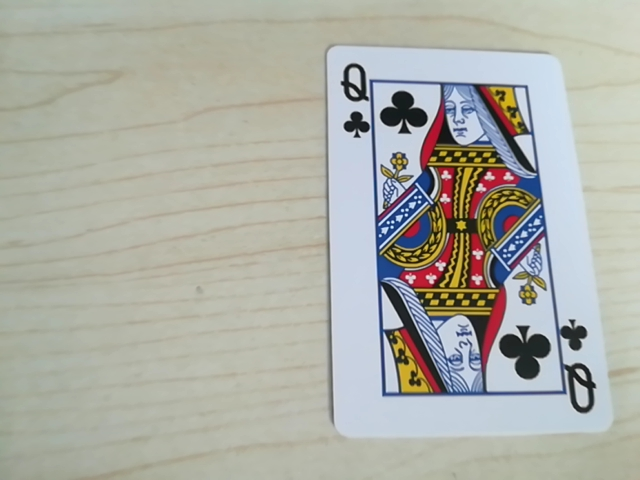mh q: (334, 56, 378, 134), (563, 353, 601, 420)
